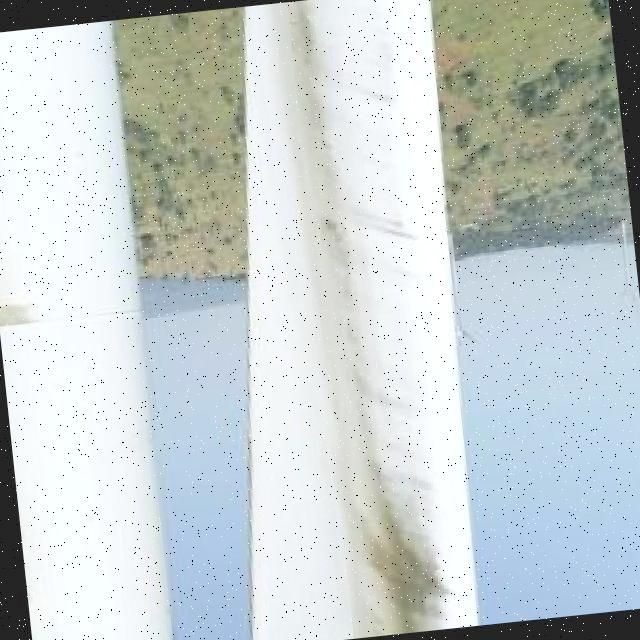Dirt: (276, 1, 451, 640)
